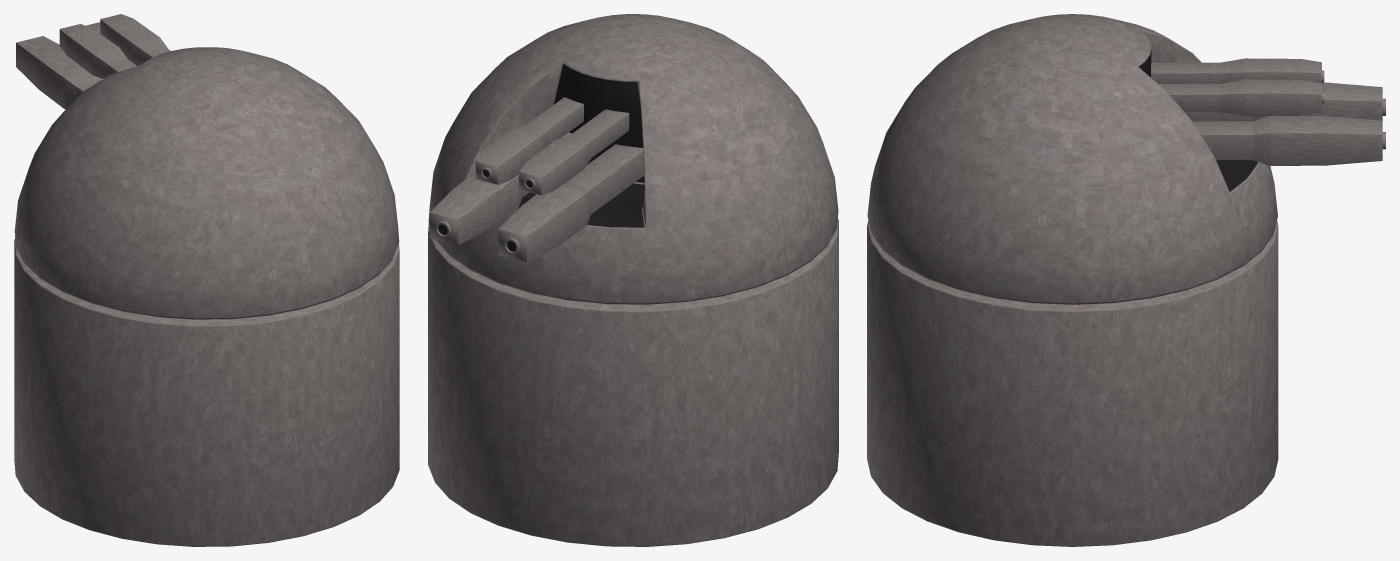
Rendered from tower.glb.
3 renders of one model, left to right at view 1: azimuth 30°, elevation 25°; view 2: azimuth 150°, elevation 25°; view 3: azimuth 270°, elevation 25°, orthographic. The views are drawn at different scales.
Parts seen in each view (by area): view 1: Body, Head, Weapon Bottom Left, Weapon Top Left, Weapon Top Right; view 2: Body, Head, Weapon Bottom Left, Weapon Top Left, Weapon Bottom Right, Weapon Top Right; view 3: Body, Head, Weapon Bottom Right, Weapon Top Right, Weapon Top Left, Weapon Bottom Left.
Part boxes in pixels (x1,y1,x2,y2): Body: (14, 238, 399, 546); Head: (14, 47, 399, 319); Weapon Bottom Left: (16, 36, 102, 109); Weapon Top Left: (59, 24, 136, 78); Weapon Top Right: (100, 14, 170, 65); Body: (428, 218, 838, 546); Head: (428, 14, 838, 304); Weapon Bottom Left: (498, 144, 644, 261); Weapon Top Left: (519, 109, 629, 195); Weapon Bottom Right: (429, 132, 571, 245); Weapon Top Right: (475, 97, 583, 184); Body: (867, 220, 1278, 546); Head: (867, 14, 1277, 304); Weapon Bottom Right: (1192, 115, 1382, 165); Weapon Top Right: (1158, 79, 1321, 116); Weapon Top Left: (1151, 58, 1321, 83); Weapon Bottom Left: (1185, 82, 1382, 121).
Size of the model in its own units: 2 by 2.29 by 2.52.
Materials: 2 (1 with a texture image).
